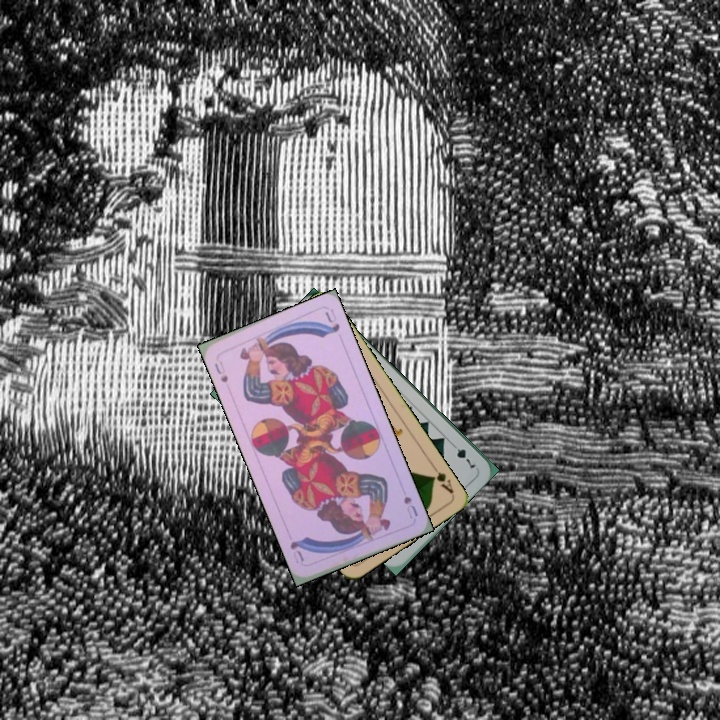G7: (447, 439, 478, 471)
GA: (426, 460, 456, 496)
SU: (399, 492, 420, 521), (211, 359, 231, 385)
